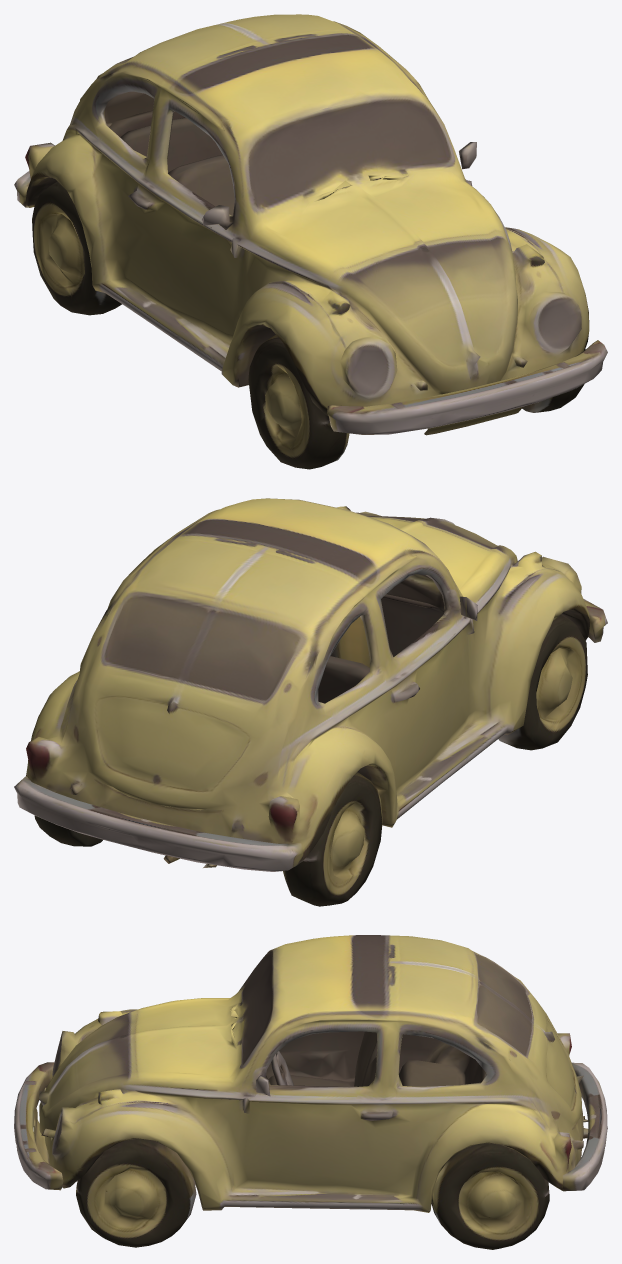
Rendered from classic_beetle_3d_model.fbx.
3 renders of one model, top to bottom at view 1: azimuth 30°, elevation 25°; view 2: azimuth 150°, elevation 25°; view 3: azimuth 270°, elevation 25°, orthographic. The views are drawn at different scales.
Parts seen in each view (by area): view 1: tripo_node_d9517209-2ce8-498f-b791-90c402b14609; view 2: tripo_node_d9517209-2ce8-498f-b791-90c402b14609; view 3: tripo_node_d9517209-2ce8-498f-b791-90c402b14609.
Part boxes in pixels (x1,y1,x2,y2): tripo_node_d9517209-2ce8-498f-b791-90c402b14609: [14, 14, 607, 469]; tripo_node_d9517209-2ce8-498f-b791-90c402b14609: [14, 498, 607, 906]; tripo_node_d9517209-2ce8-498f-b791-90c402b14609: [14, 935, 607, 1249].
Bounding box in the file's own units: 0.4998 × 0.4362 × 1.
1 material, 1 textured.
